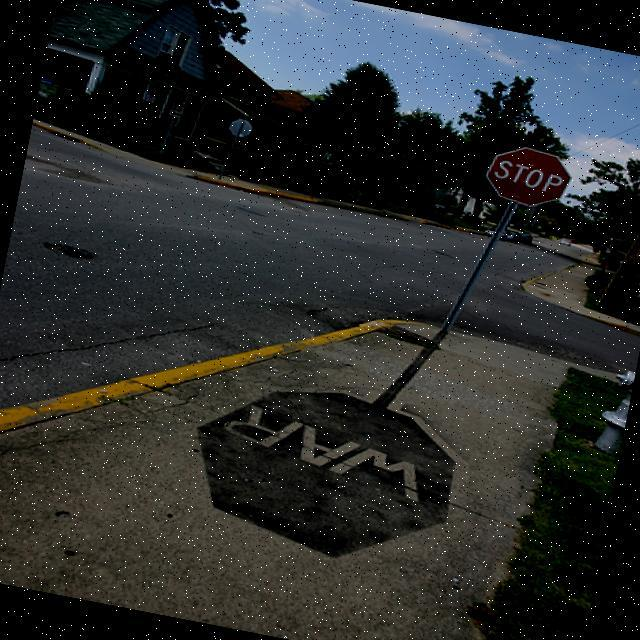fire_hydrant: (588, 362, 636, 460)
